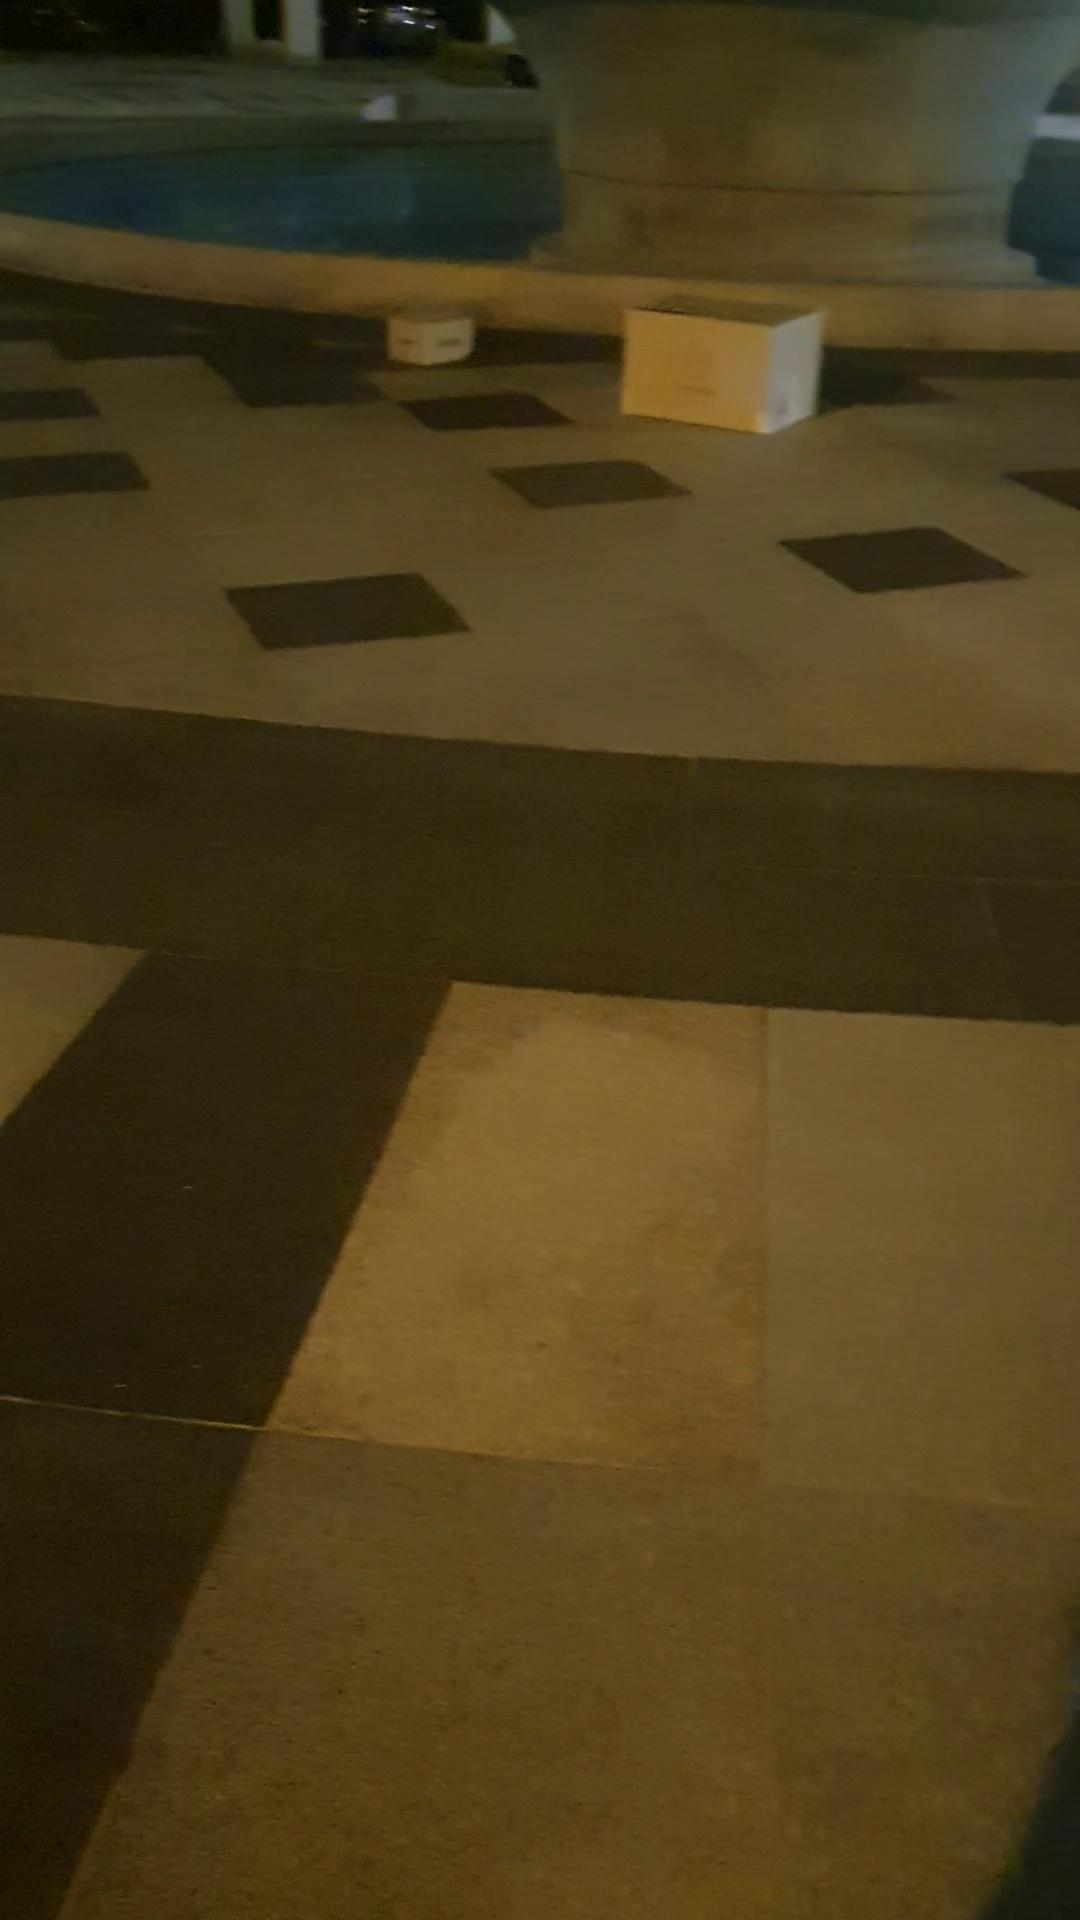Box: (613, 290, 837, 455), (382, 301, 491, 377)
